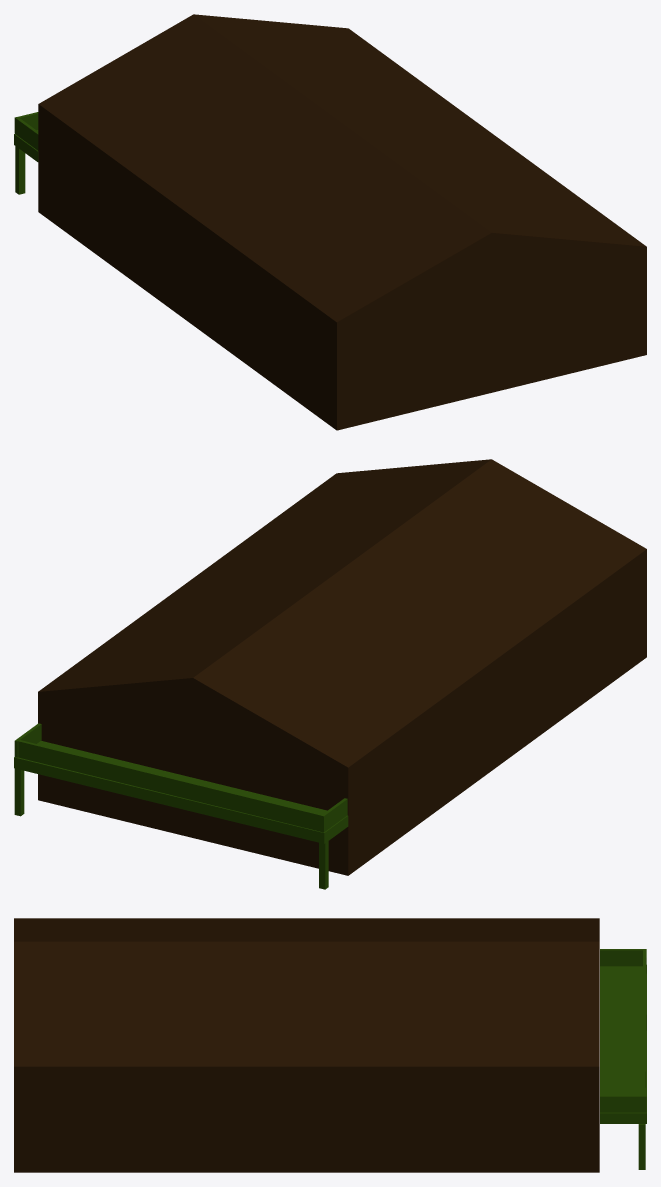
File: Zelt_käfer.fbx
The picture shows the model from 3 angles, top to bottom: view 1: azimuth 30°, elevation 25°; view 2: azimuth 150°, elevation 25°; view 3: azimuth 270°, elevation 25°; orthographic projection. The views are drawn at different scales.
Visible parts, largest first — view 1: Cube.001; view 2: Cube.001, Cube.005, Cube.002; view 3: Cube.001, Cube.002, Cube.004, Cube.003, Cube.005.
Part boxes in pixels (x1,y1,x2,y2): Cube.001: (38,14,646,430); Cube.001: (38,459,646,875); Cube.005: (18,740,322,831); Cube.002: (14,740,348,843); Cube.001: (14,918,599,1172); Cube.002: (600,965,646,1123); Cube.004: (600,1095,646,1112); Cube.003: (600,949,646,966); Cube.005: (642,950,646,1095).
Bounding box in the file's own units: 3003 × 1531 × 5405.
